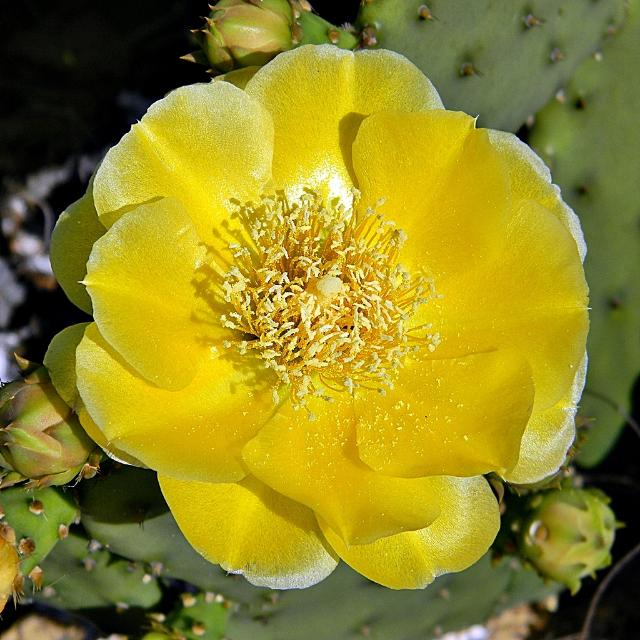Flower: (46, 40, 556, 592)
